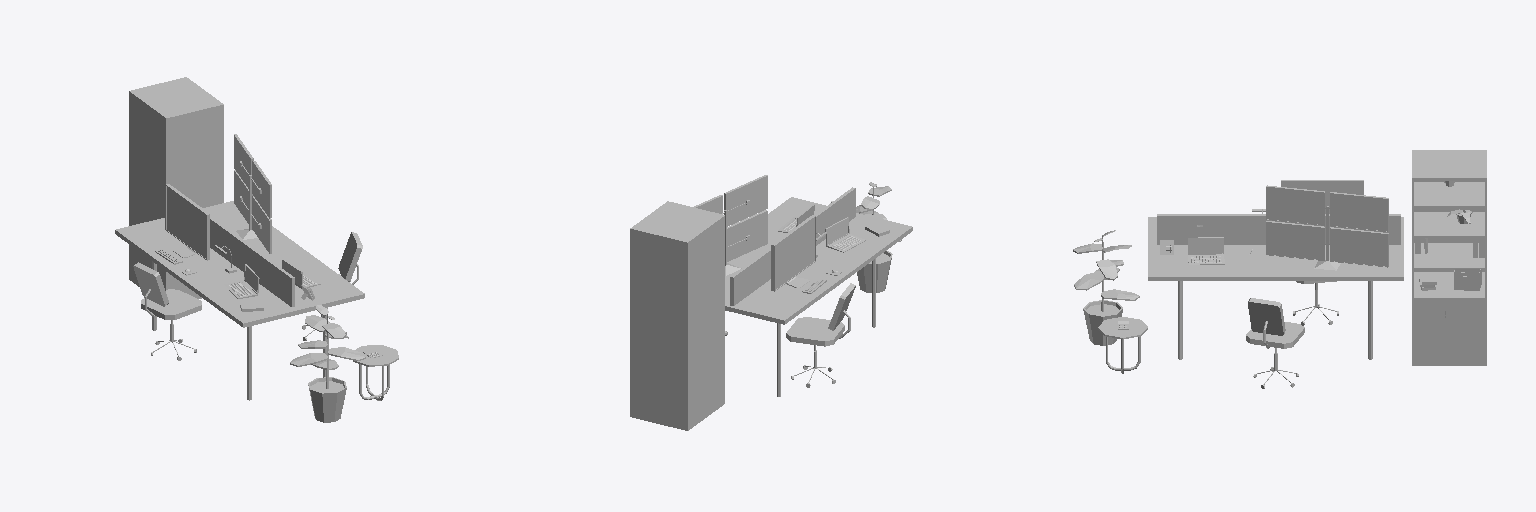
The model's file is Desk_or.obj.
The picture shows the model from 3 angles: view 1: azimuth 30°, elevation 25°; view 2: azimuth 150°, elevation 25°; view 3: azimuth 270°, elevation 25°; orthographic projection.
Visible parts, largest first — view 1: Cupboard.001_Plane.939, Table_Plane.035, Monitor_Set_Plane.1204, Monitor_Big.001_Plane.1200, Chair_Plane.925, Plant.002_Plane.869, Big_Pot.001_Plane.942, Coffee_Table_Small_Plane.111, Chair.001_Plane.899, Laptop_Plane.890; view 2: Cupboard.001_Plane.939, Table_Plane.035, Monitor_Set_Plane.1204, Monitor_Big.001_Plane.1200, Chair_Plane.925, Big_Pot.001_Plane.942, Laptop_Plane.890, Plant.002_Plane.869; view 3: Cupboard.001_Plane.939, Table_Plane.035, Monitor_Set_Plane.1204, Chair.001_Plane.899, Plant.002_Plane.869, Coffee_Table_Small_Plane.111, Big_Pot.001_Plane.942, Monitor_Big.001_Plane.1200, Laptop.001_Plane.881, IJustGotFiredBox_Plane.927.
Part boxes in pixels (bbox=[...]): Cupboard.001_Plane.939: bbox=[129, 77, 223, 298]; Table_Plane.035: bbox=[115, 201, 364, 400]; Monitor_Set_Plane.1204: bbox=[234, 134, 271, 253]; Monitor_Big.001_Plane.1200: bbox=[165, 184, 209, 260]; Chair_Plane.925: bbox=[133, 262, 201, 360]; Plant.002_Plane.869: bbox=[290, 305, 365, 388]; Big_Pot.001_Plane.942: bbox=[308, 377, 346, 422]; Coffee_Table_Small_Plane.111: bbox=[353, 345, 398, 400]; Chair.001_Plane.899: bbox=[302, 232, 362, 340]; Laptop_Plane.890: bbox=[224, 264, 259, 298]; Cupboard.001_Plane.939: bbox=[630, 201, 724, 430]; Table_Plane.035: bbox=[725, 187, 912, 396]; Monitor_Set_Plane.1204: bbox=[694, 175, 767, 275]; Monitor_Big.001_Plane.1200: bbox=[771, 215, 815, 291]; Chair_Plane.925: bbox=[786, 283, 855, 387]; Big_Pot.001_Plane.942: bbox=[857, 250, 892, 292]; Laptop_Plane.890: bbox=[825, 217, 865, 252]; Plant.002_Plane.869: bbox=[856, 182, 901, 241]; Cupboard.001_Plane.939: bbox=[1412, 150, 1486, 365]; Table_Plane.035: bbox=[1148, 214, 1403, 359]; Monitor_Set_Plane.1204: bbox=[1266, 185, 1388, 270]; Chair.001_Plane.899: bbox=[1246, 298, 1304, 388]; Plant.002_Plane.869: bbox=[1073, 230, 1139, 311]; Coffee_Table_Small_Plane.111: bbox=[1098, 317, 1147, 373]; Big_Pot.001_Plane.942: bbox=[1083, 300, 1122, 345]; Monitor_Big.001_Plane.1200: bbox=[1281, 180, 1363, 213]; Laptop.001_Plane.881: bbox=[1188, 237, 1224, 264]; IJustGotFiredBox_Plane.927: bbox=[1454, 269, 1481, 290].
Bounding box in the file's own units: 11.14 × 10.08 × 19.95.